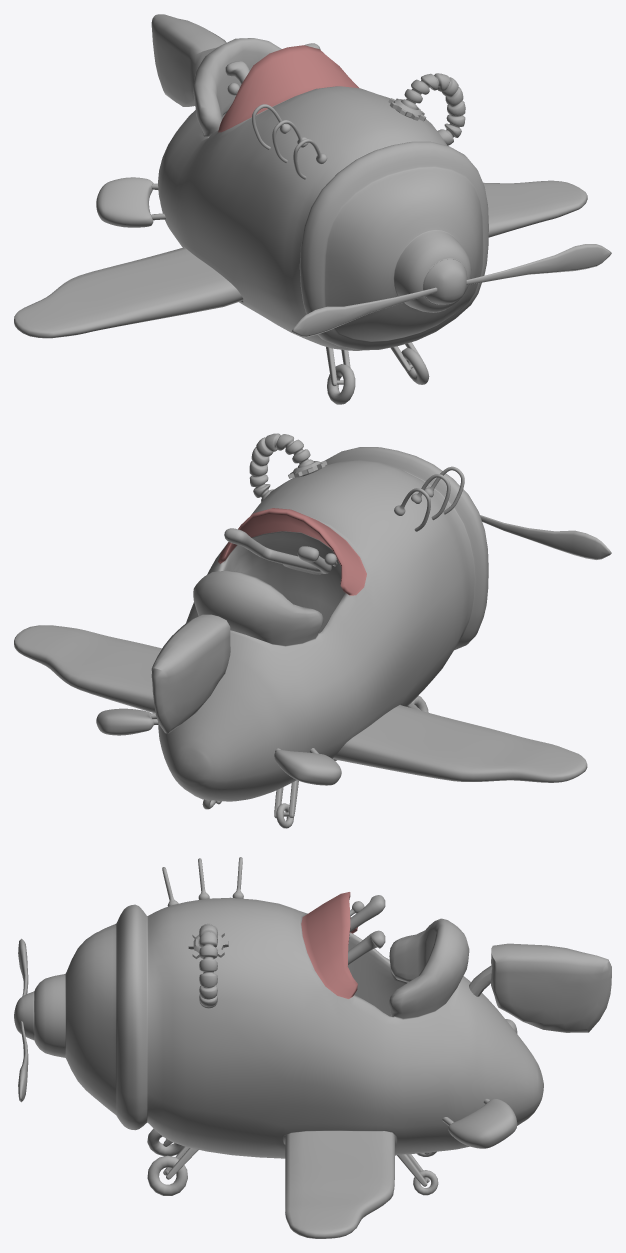
The picture shows the model from 3 angles, top to bottom: view 1: azimuth 30°, elevation 25°; view 2: azimuth 150°, elevation 25°; view 3: azimuth 270°, elevation 25°; orthographic projection.
Visible parts, largest first — view 1: SM_Plane01_Body, SM_PLaneo1_Body_Propeller; view 2: SM_Plane01_Body, SM_PLaneo1_Body_Propeller; view 3: SM_Plane01_Body, SM_PLaneo1_Body_Propeller.
Boxes of the visible parts, x1=… form: SM_Plane01_Body: x1=14, y1=14, x2=587, y2=404; SM_PLaneo1_Body_Propeller: x1=292, y1=244, x2=611, y2=337; SM_Plane01_Body: x1=14, y1=433, x2=587, y2=828; SM_PLaneo1_Body_Propeller: x1=480, y1=515, x2=611, y2=559; SM_Plane01_Body: x1=34, y1=857, x2=611, y2=1238; SM_PLaneo1_Body_Propeller: x1=14, y1=938, x2=34, y2=1102.
Bounding box in the file's own units: 255 × 124 × 236.
